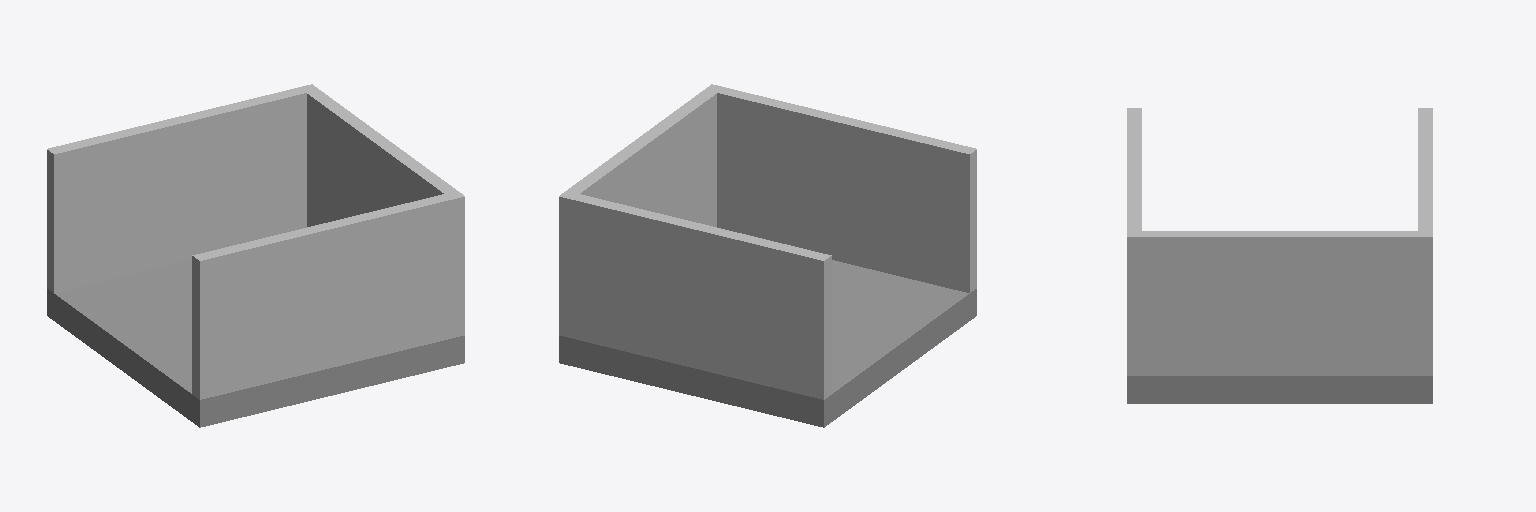
File: hallway-wide_dead-end_1.obj
The picture shows the model from 3 angles: view 1: azimuth 30°, elevation 25°; view 2: azimuth 150°, elevation 25°; view 3: azimuth 270°, elevation 25°; orthographic projection.
Visible parts, largest first — view 1: Cube.002, Cube.001, Cube, Cube.003; view 2: Cube.001, Cube.002, Cube, Cube.003; view 3: Cube.003, Cube, Cube.001, Cube.002.
Boxes of the visible parts, <box> form: Cube.002: <box>192,191,464,399</box>; Cube.001: <box>47,85,318,292</box>; Cube: <box>47,260,464,427</box>; Cube.003: <box>300,84,464,337</box>; Cube.001: <box>559,191,831,399</box>; Cube.002: <box>705,85,976,292</box>; Cube: <box>559,260,976,427</box>; Cube.003: <box>559,84,721,337</box>; Cube.003: <box>1127,231,1432,375</box>; Cube: <box>1127,376,1432,403</box>; Cube.001: <box>1418,108,1432,375</box>; Cube.002: <box>1127,108,1141,375</box>.
Size of the model in its own units: 10 by 6 by 10.